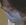with_mask: (1, 2, 26, 25)
